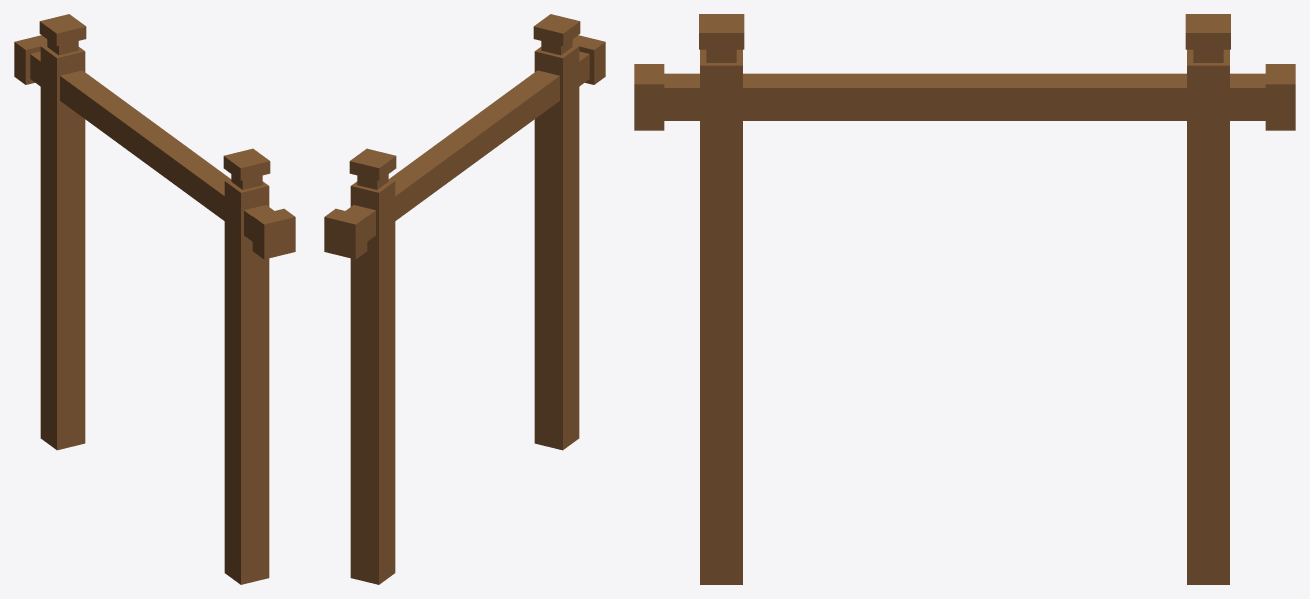
The model's file is LPCP_Hanging02.fbx.
3 renders of one model, left to right at view 1: azimuth 30°, elevation 25°; view 2: azimuth 150°, elevation 25°; view 3: azimuth 270°, elevation 25°, orthographic. The views are drawn at different scales.
Parts seen in each view (by area): view 1: LPCP_Hanging02; view 2: LPCP_Hanging02; view 3: LPCP_Hanging02.
Part boxes in pixels (box(x1,y1,x2,y2)): LPCP_Hanging02: box(14, 14, 295, 584); LPCP_Hanging02: box(324, 14, 605, 584); LPCP_Hanging02: box(634, 14, 1295, 584).
Size of the model in its own units: 0.3947 by 5.01 by 5.43.
